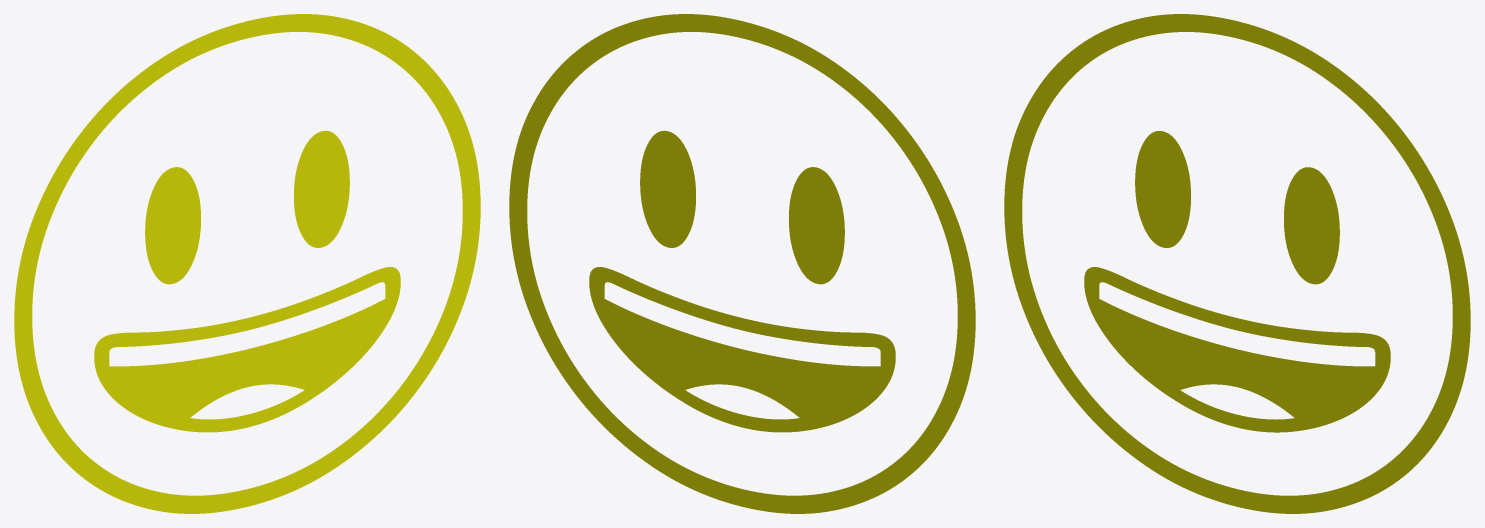
File: ghost.glb
3 renders of one model, left to right at view 1: azimuth 30°, elevation 25°; view 2: azimuth 150°, elevation 25°; view 3: azimuth 330°, elevation 25°, orthographic.
Parts seen in each view (by area): view 1: Text.561_561; view 2: Text.561_561; view 3: Text.561_561.
Part boxes in pixels (box(x1,y1,x2,y2)): Text.561_561: box(14, 14, 480, 513); Text.561_561: box(509, 14, 975, 513); Text.561_561: box(1004, 14, 1470, 513).
Bounding box in the file's own units: 1.02 × 1.01 × 3.58e-06.
